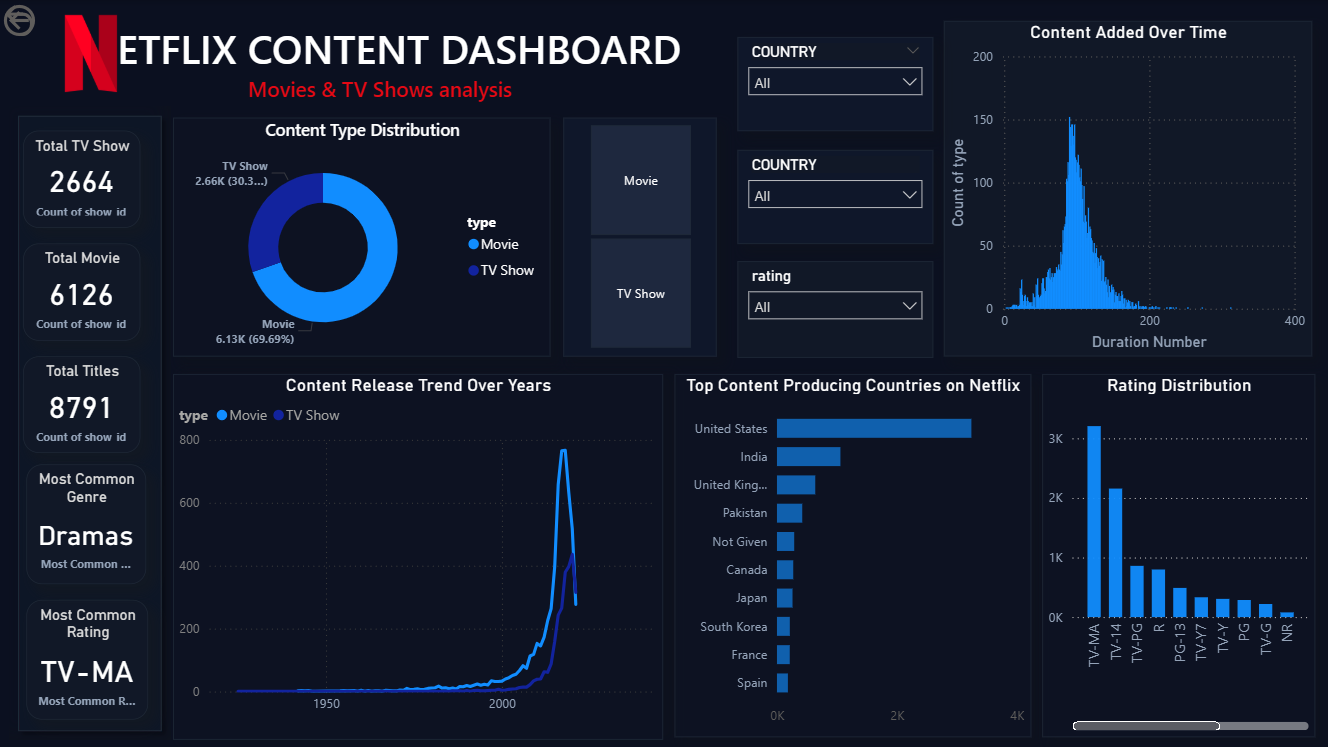

The dashboard page shown, as its layout file describes it:
{"tool":"powerbi","page":{"name":"Page 1","canvas":[1280,720],"ordinal":0},"visuals":[{"type":"shape","box":[8.7,102.2,156.5,610.8],"z":1000},{"type":"donutChart","title":"Content Type Distribution","fields":{"Y":["select","CountNonNull(netflix_titles.title)"],"Category":["netflix_titles.type"]},"box":[167.8,113.4,363.5,229.9],"z":2000},{"type":"actionButton","box":[0,0,100,40],"z":3000},{"type":"card","title":"Total Titles","fields":{"Values":["CountNonNull(netflix1.show_id)"]},"box":[23.9,343.5,113,93],"z":4000},{"type":"card","title":"Total Movie","fields":{"Values":["CountNonNull(netflix1.show_id)"]},"box":[23.9,234.8,113,93.5],"z":5000},{"type":"card","title":"Total TV Show","fields":{"Values":["CountNonNull(netflix1.show_id)"]},"box":[23.9,126.1,113,93.5],"z":6000},{"type":"lineChart","title":"Content Release Trend Over Years","fields":{"Y":["CountNonNull(netflix1.show_id)"],"Category":["netflix1.release_year"],"Series":["netflix_titles.type"]},"box":[167.4,360.9,471.7,352.2],"z":7000},{"type":"clusteredBarChart","title":"Top Content Producing Countries on Netflix","fields":{"Category":["netflix_titles.country"],"Y":["CountNonNull(netflix_titles.title)"]},"box":[650.9,360.4,343.3,349.5],"z":8000},{"type":"clusteredColumnChart","title":"Rating Distribution","fields":{"Category":["netflix1.rating"],"Y":["CountNonNull(netflix1.show_id)"]},"box":[1005.1,360.4,263,349.5],"z":9000},{"type":"slicer","fields":{"Values":["netflix1.type"]},"box":[543.7,113.4,147.6,229.9],"z":10000},{"type":"slicer","fields":{"Values":["netflix1.country"]},"box":[711.3,144.9,188.8,90.5],"z":11000},{"type":"textbox","title":"NETFLIX CONTENT DASHBOARD","box":[80,20,592.7,52.7],"z":12000},{"type":"actionButton","box":[0,0,50.9,40],"z":13000},{"type":"textbox","title":"Movies & TV Shows analysis ","box":[136.9,71.7,460.8,34.8],"z":14000},{"type":"card","title":"Most Common Rating","fields":{"Values":["netflix_titles.Most Common Rating Count"]},"box":[26.1,578.2,117.4,115.2],"z":15000},{"type":"card","title":"Most Common Genre","fields":{"Values":["netflix_titles.Most Common Genre"]},"box":[26.1,447.8,115.2,115.2],"z":16000},{"type":"shape","box":[45.5,10.9,70.9,90.9],"z":17001},{"type":"image","box":[50.9,12.7,74.5,78.2],"z":17501},{"type":"clusteredColumnChart","title":"Content Added Over Time","fields":{"Category":["netflix_titles.Duration Number"],"Y":["CountNonNull(netflix_titles.type)"]},"box":[910.5,20.7,355,323.3],"z":17502},{"type":"slicer","fields":{"Values":["netflix_titles.rating"]},"box":[711.3,250.9,188.8,93.1],"z":17503},{"type":"slicer","fields":{"Values":["netflix_titles.release_year"]},"box":[711.3,36.2,188.8,90.5],"z":17504}]}

Visuals, with their boxes in screenshot pixels (x1, y1, x2, y2), scaled from the page's 1280x720 canvas onto the 1328x747 screenshot:
shape: [9, 106, 171, 740]
"Content Type Distribution" donutChart: [174, 118, 551, 356]
actionButton: [0, 0, 104, 42]
"Total Titles" card: [25, 356, 142, 453]
"Total Movie" card: [25, 244, 142, 341]
"Total TV Show" card: [25, 131, 142, 228]
"Content Release Trend Over Years" lineChart: [174, 374, 663, 740]
"Top Content Producing Countries on Netflix" clusteredBarChart: [675, 374, 1031, 737]
"Rating Distribution" clusteredColumnChart: [1043, 374, 1316, 737]
slicer - netflix1.type: [564, 118, 717, 356]
slicer - netflix1.country: [738, 150, 934, 244]
"NETFLIX CONTENT DASHBOARD" textbox: [83, 21, 698, 75]
actionButton: [0, 0, 53, 42]
"Movies & TV Shows analysis " textbox: [142, 74, 620, 110]
"Most Common Rating" card: [27, 600, 149, 719]
"Most Common Genre" card: [27, 465, 147, 584]
shape: [47, 11, 121, 106]
image: [53, 13, 130, 94]
"Content Added Over Time" clusteredColumnChart: [945, 21, 1313, 357]
slicer - netflix_titles.rating: [738, 260, 934, 357]
slicer - netflix_titles.release_year: [738, 38, 934, 131]
